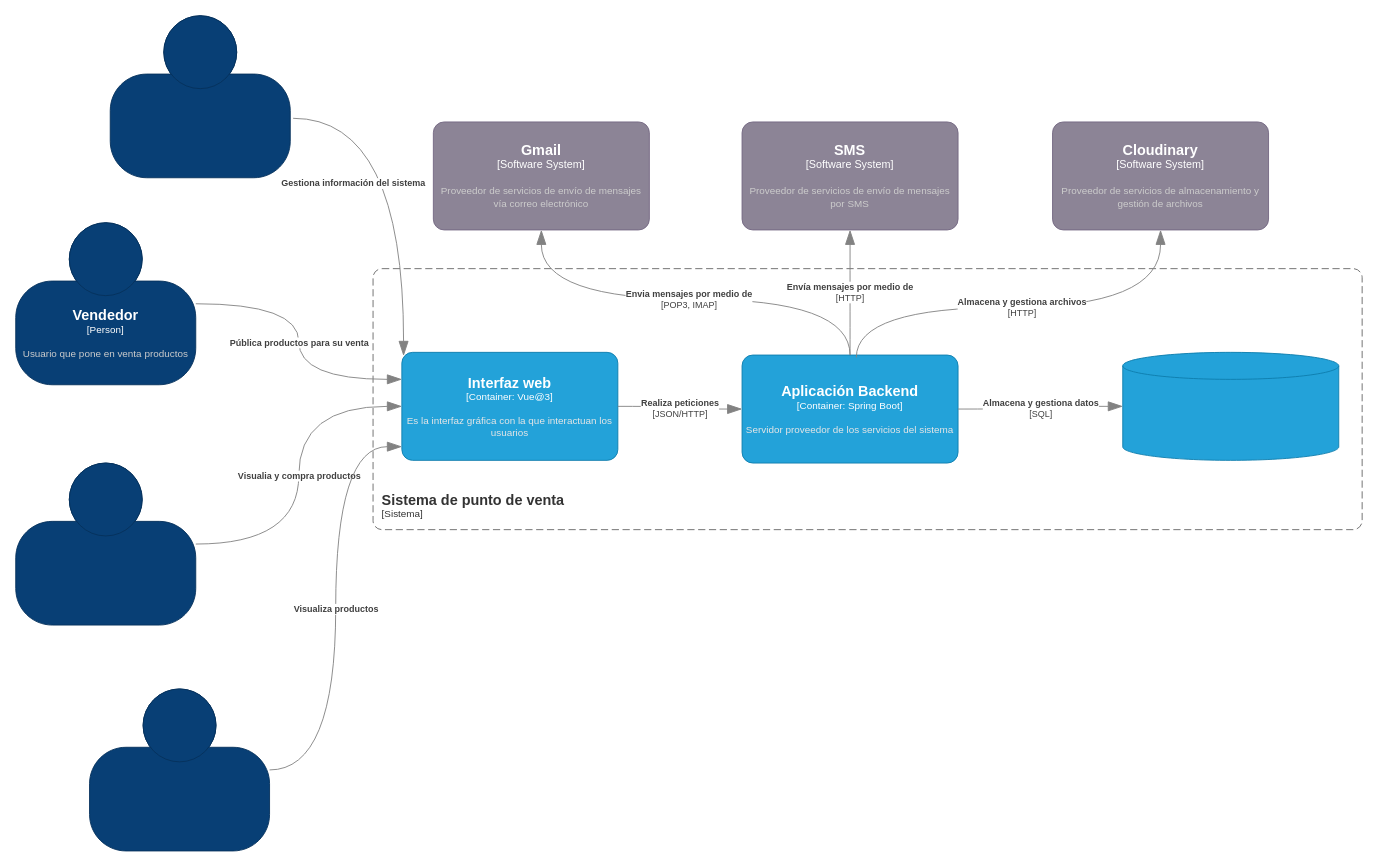
This 1378x867 diagram has some shape labels left out. The centre of each missing label's shape, as x and y in pixels:
"Administrador [Person] Usuario que administra la plataforma, es el superusuario." goes at (x=199, y=96).
"Base de datos [Container: MySQL Database] Base de datos del sistema" goes at (x=1230, y=405).
"Cliente [Person] Usuario que compra productos" goes at (x=105, y=543).
"Usuario público [Person] Usuario no registrado en la plataforma" goes at (x=179, y=769).
